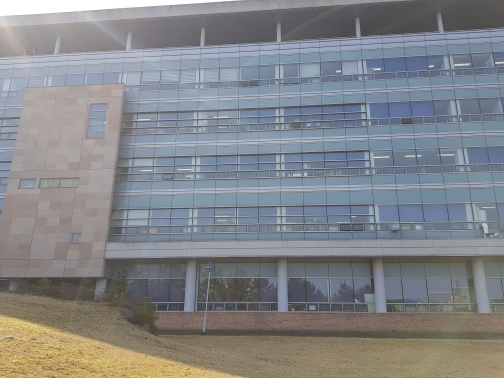Engineering College Building 4: (22, 23, 503, 285), (201, 25, 490, 324)
